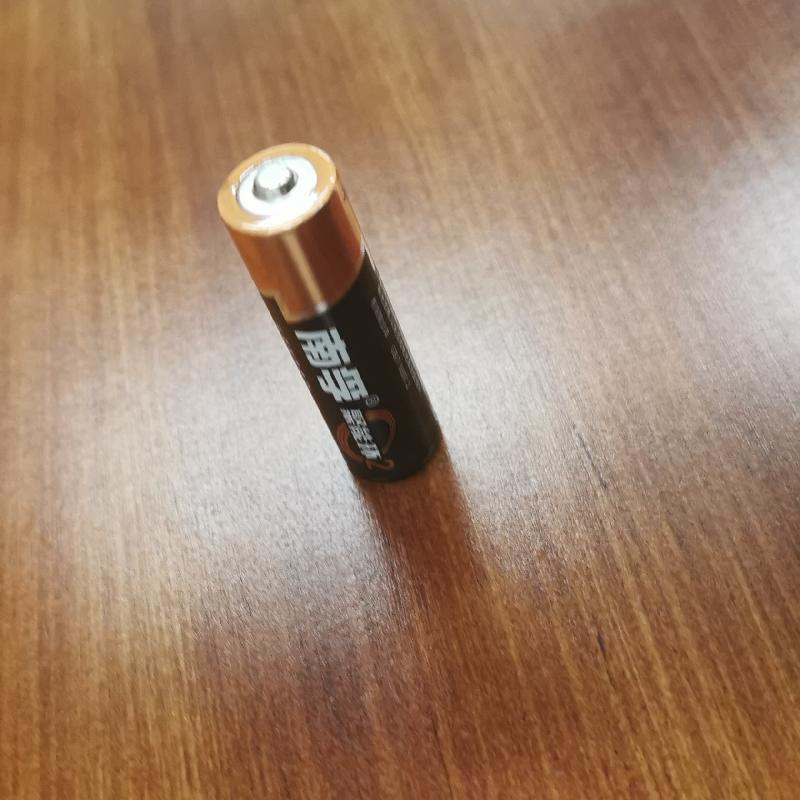battery: (216, 141, 449, 486)
